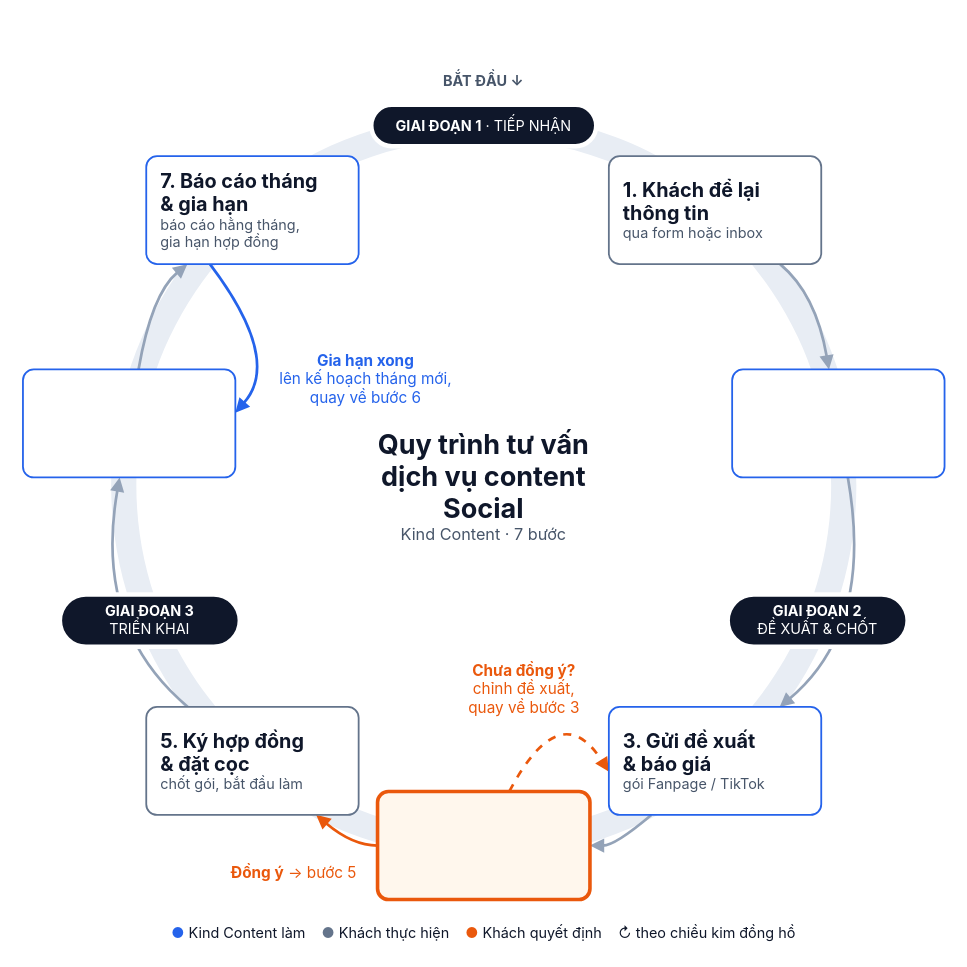
Some shapes in this 967 by 967 pixel diagram are drawn without their labels. The shapes that lost their labels are listed below. From the top down, each one's centre as x and y in pixels, then its label:
the point at 129,423: 6. Họp khởi động brief thương hiệu, lịch đăng tháng đầu
the point at 838,423: 2. Gọi tư vấn 15 phút hiểu nhu cầu, ngân sách
the point at 483,845: KHÁCH QUYẾT ĐỊNH 4. Khách đồng ý? xem đề xuất, quyết định
